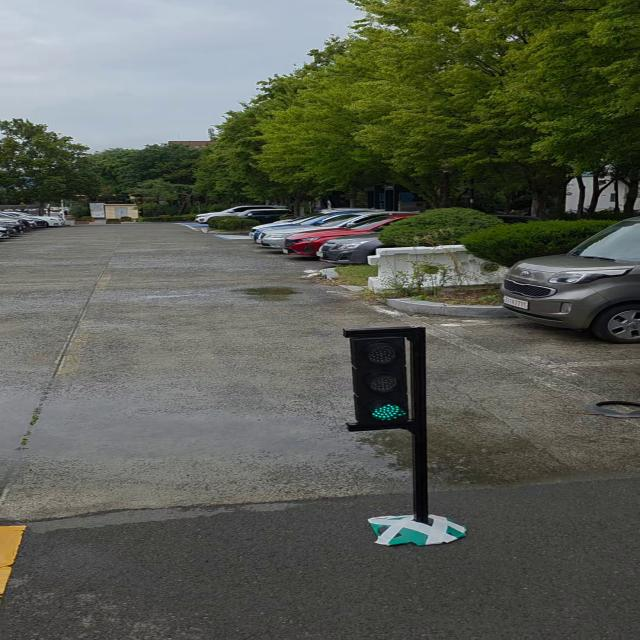green: (350, 332, 425, 428)
